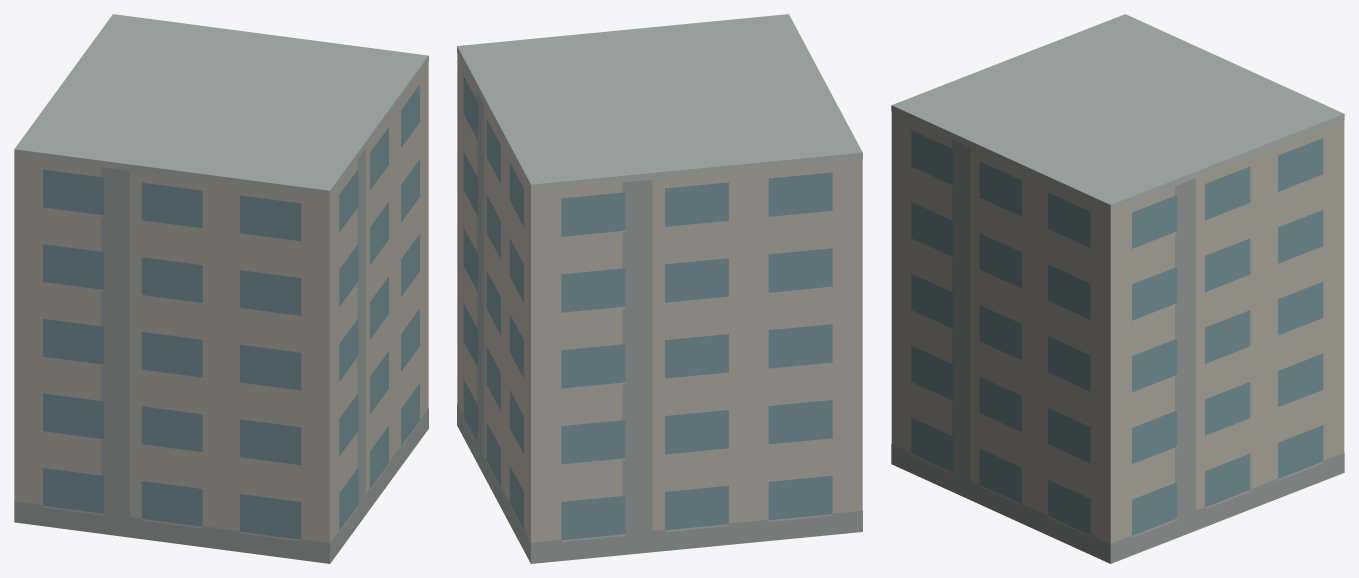
Rendered from survey-upis-32851622.glb.
The picture shows the model from 3 angles, left to right: view 1: azimuth 30°, elevation 25°; view 2: azimuth 150°, elevation 25°; view 3: azimuth 270°, elevation 25°; orthographic projection. The views are drawn at different scales.
Visible parts, largest first — view 1: survey-upis-32851622.tmp; view 2: survey-upis-32851622.tmp; view 3: survey-upis-32851622.tmp.
Boxes of the visible parts, bbox=[...] form: survey-upis-32851622.tmp: bbox=[14, 14, 428, 563]; survey-upis-32851622.tmp: bbox=[457, 14, 862, 563]; survey-upis-32851622.tmp: bbox=[891, 14, 1344, 563].
Size of the model in its own units: 15.64 by 13.7 by 15.67.
